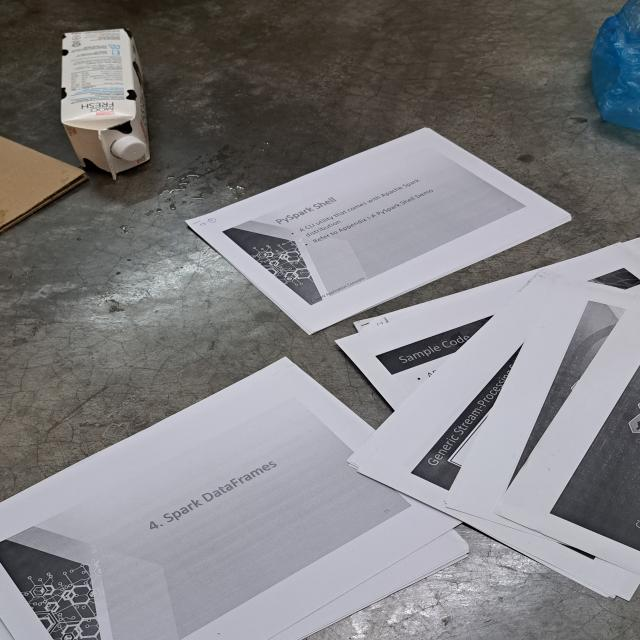cardboard: (0, 132, 89, 231)
drink carton: (58, 25, 152, 179)
paper: (0, 356, 470, 640), (338, 236, 640, 599), (193, 125, 574, 337)
plastic bottle cap: (115, 132, 149, 166)
